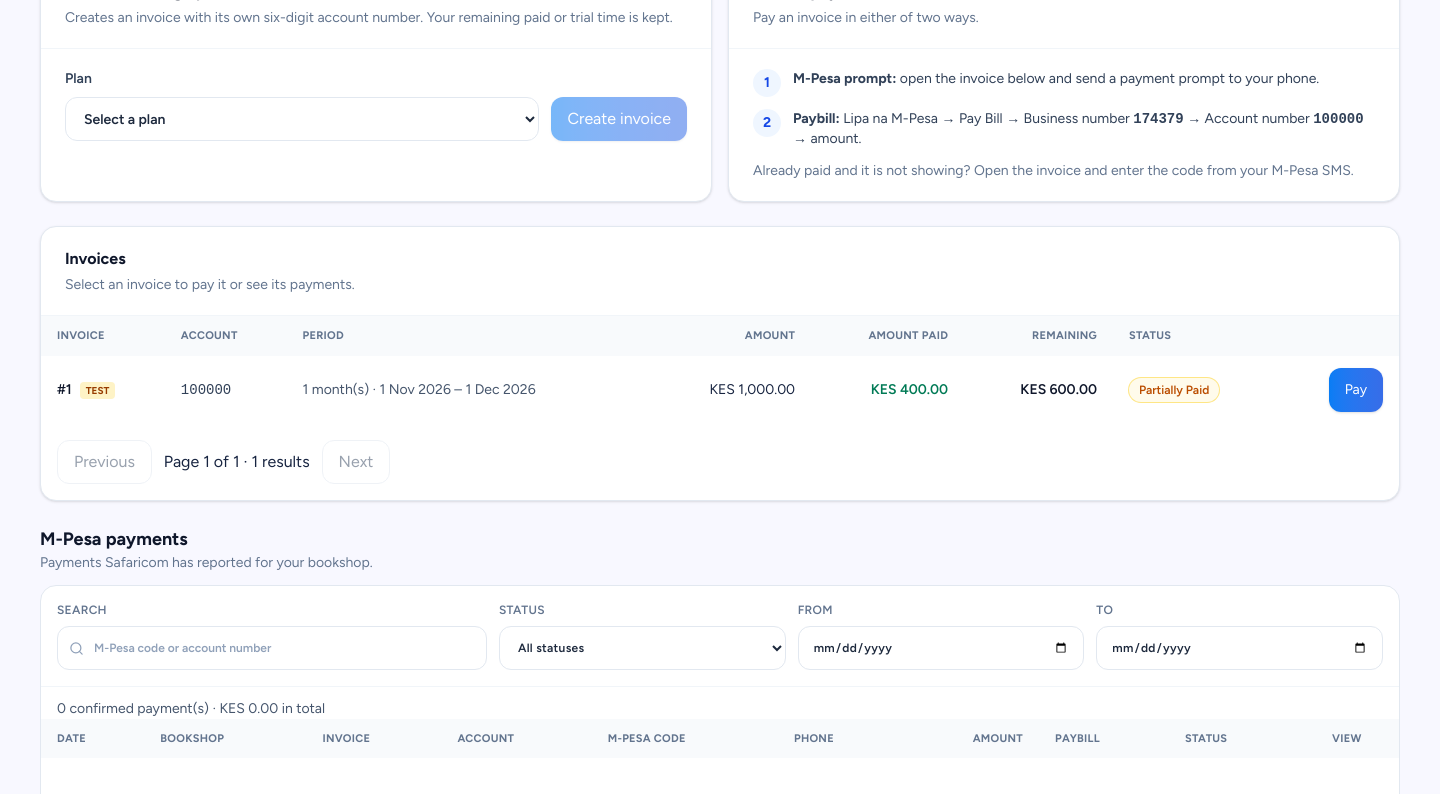
Test: subscription billing › blocks another prompt while an unknown request awaits reconciliation
(page scrolled)
Click the button with aria-label "Pay invoice #1 / 100000". click: click(1356, 390)
box: top-left (1329, 368), bottom-right (1383, 412)
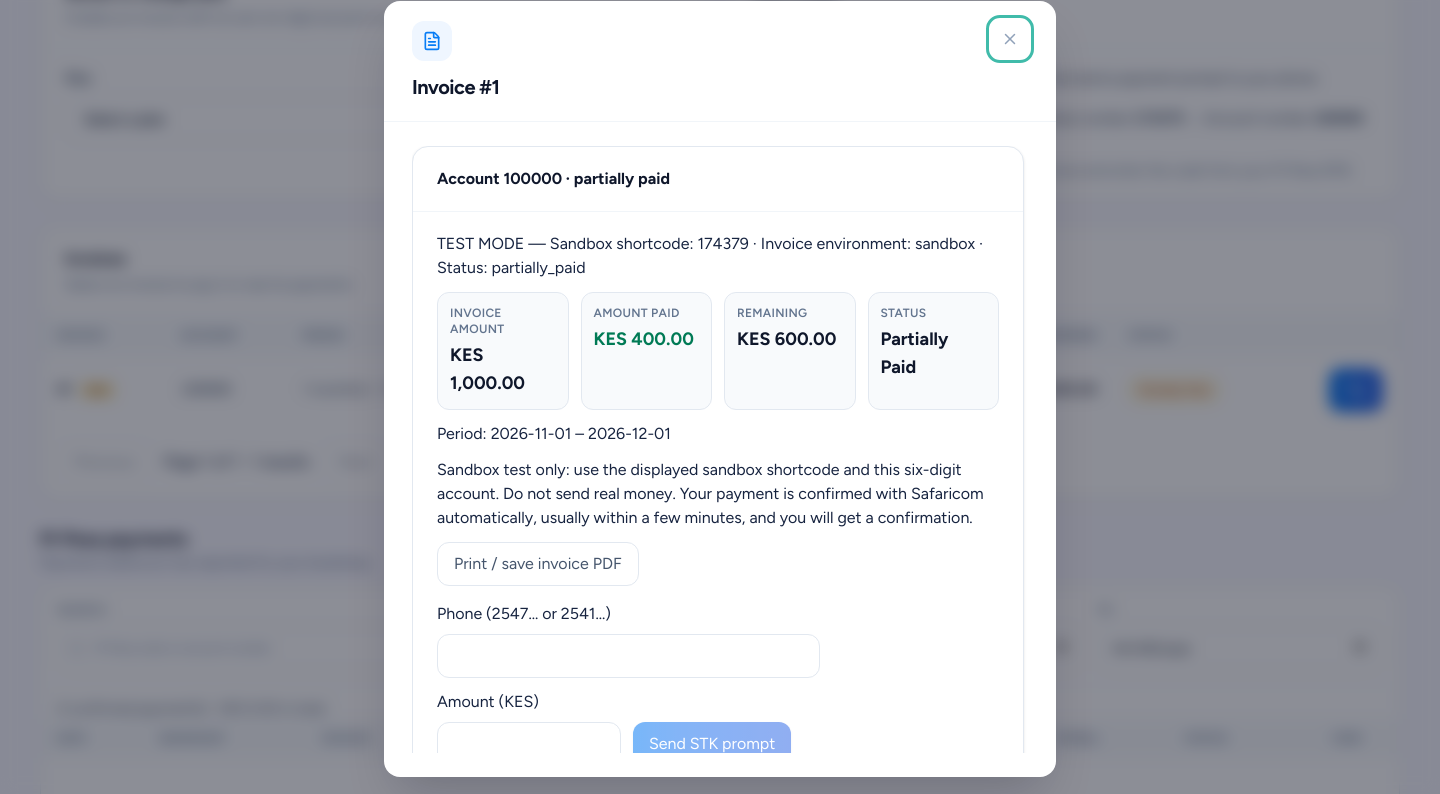
expect the button "Send STK prompt" is disabled: met, box top-left (633, 722), bottom-right (791, 753)
